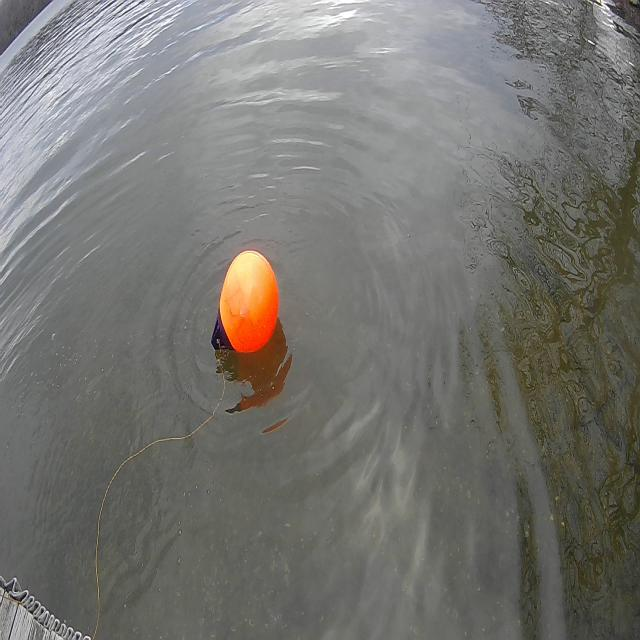Buoy: (218, 243, 281, 357)
